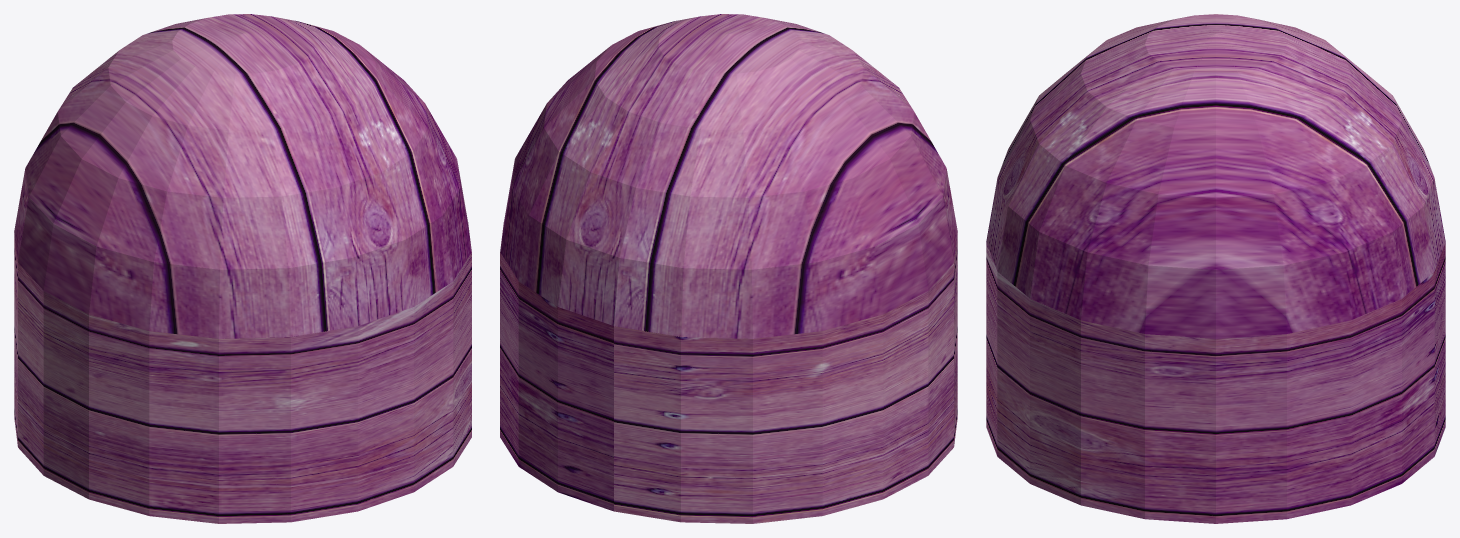
File: 反彈牆.fbx
3 renders of one model, left to right at view 1: azimuth 30°, elevation 25°; view 2: azimuth 150°, elevation 25°; view 3: azimuth 270°, elevation 25°, orthographic.
Parts seen in each view (by area): view 1: 球體, 圓柱體; view 2: 球體, 圓柱體; view 3: 球體, 圓柱體.
Boxes of the visible parts, x1=… form: 球體: x1=14, y1=14, x2=471, y2=338; 圓柱體: x1=14, y1=222, x2=471, y2=523; 球體: x1=500, y1=14, x2=957, y2=338; 圓柱體: x1=500, y1=222, x2=957, y2=523; 球體: x1=986, y1=14, x2=1445, y2=338; 圓柱體: x1=986, y1=242, x2=1445, y2=523.
Bounding box in the file's own units: 180 × 180 × 170.
2 materials, 2 textured.
